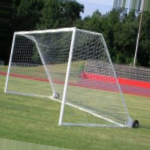goals: (3, 26, 129, 128)
